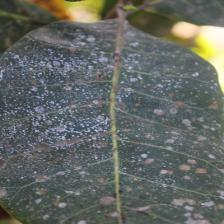red rust: (0, 18, 224, 224)
